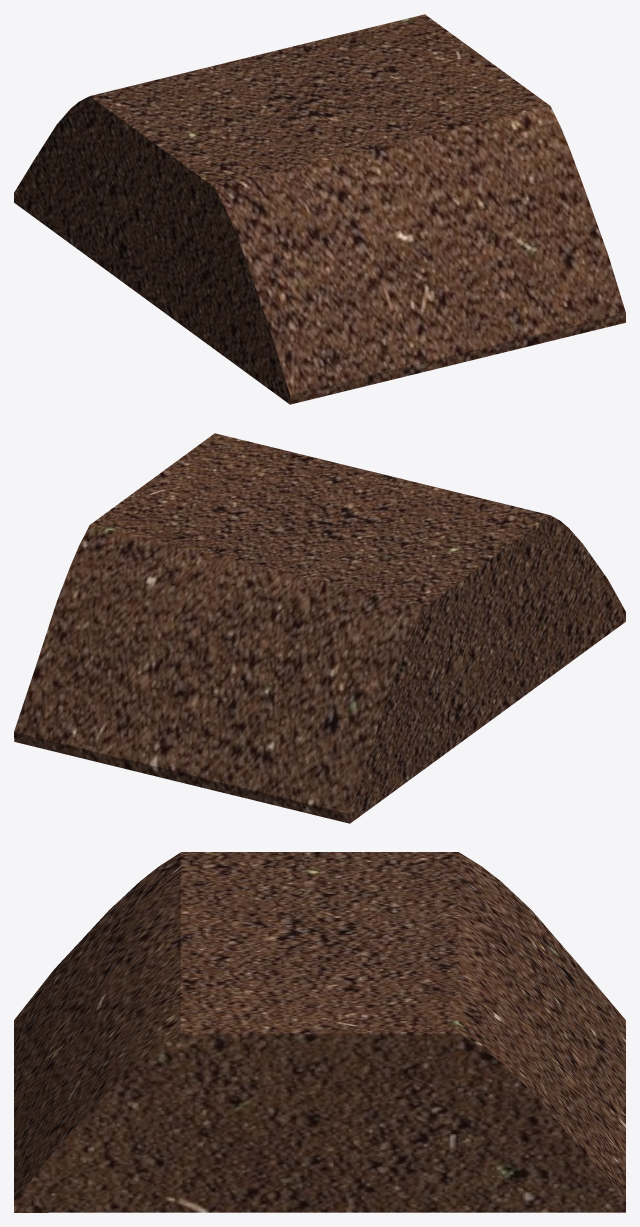
3 views of the same model, one above another, from view 1: azimuth 30°, elevation 25°; view 2: azimuth 150°, elevation 25°; view 3: azimuth 270°, elevation 25° (orthographic). The views are drawn at different scales.
Parts seen in each view (by area): view 1: Box002; view 2: Box002; view 3: Box002.
Boxes of the visible parts, box(x1,y1,x2,y2) form: Box002: box(14, 14, 625, 404); Box002: box(14, 433, 625, 823); Box002: box(14, 852, 625, 1212).
Size of the model in its own units: 84.35 by 38.76 by 120.
Materials: 1 (1 with a texture image).
